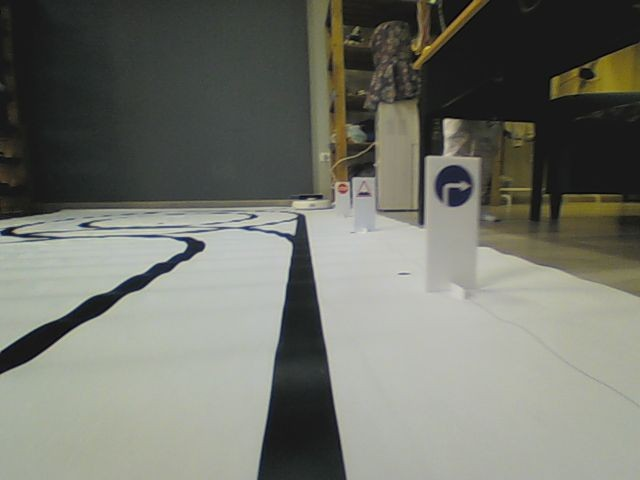Nerov: (356, 179, 372, 197)
Right: (431, 163, 474, 208)
